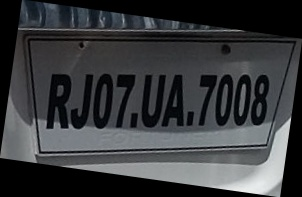character: (44, 72, 71, 131), (69, 73, 93, 131), (141, 74, 166, 127), (92, 73, 113, 130), (161, 74, 183, 128), (115, 74, 136, 130), (198, 74, 218, 127), (233, 73, 252, 126), (251, 74, 270, 126), (214, 74, 232, 126)
